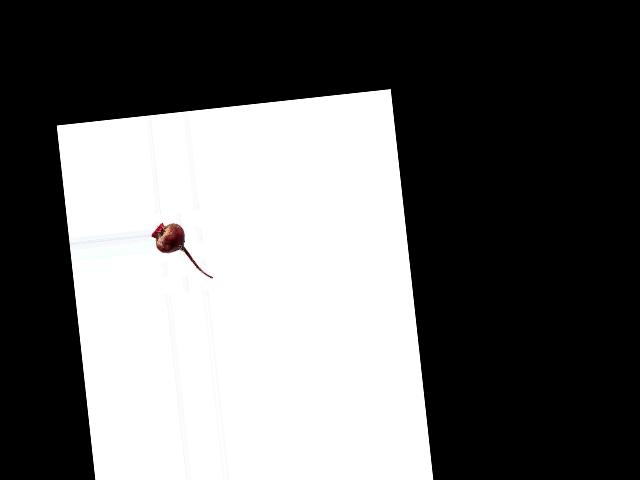beet: (150, 218, 213, 284)
